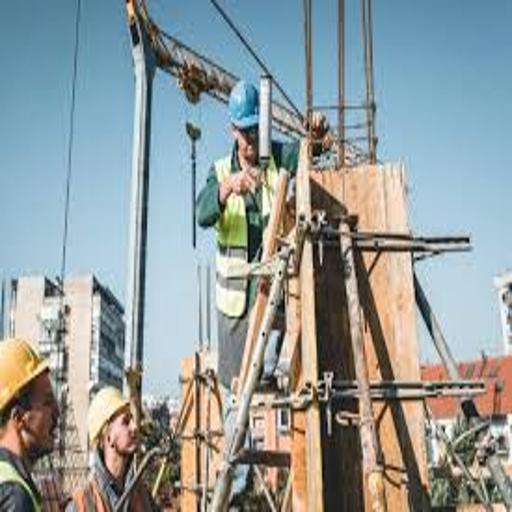Hard_hat: (218, 77, 282, 136), (0, 322, 46, 395), (81, 377, 132, 431)
Humans: (208, 129, 296, 367), (61, 430, 163, 512), (1, 400, 62, 512)
Vest: (199, 152, 312, 335)
